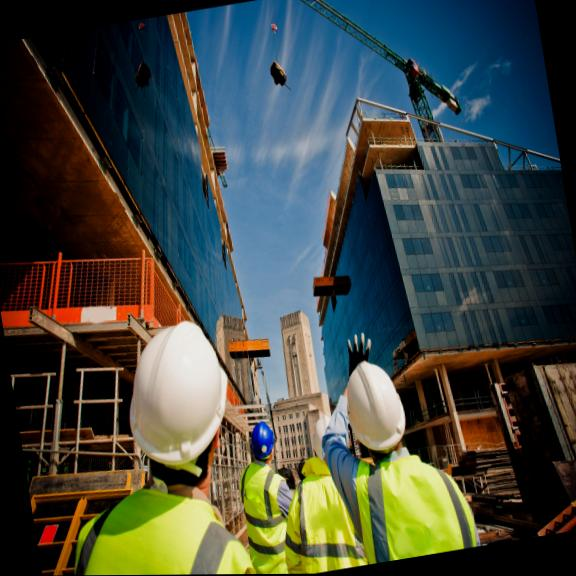safety_vest: (39, 471, 261, 576), (351, 460, 471, 565), (275, 450, 367, 574), (229, 456, 303, 574)
